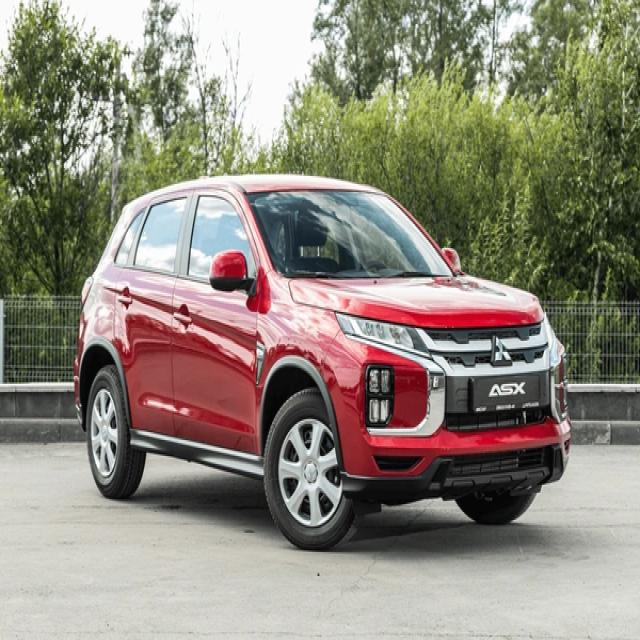mitsubishi: (490, 336, 516, 366)
